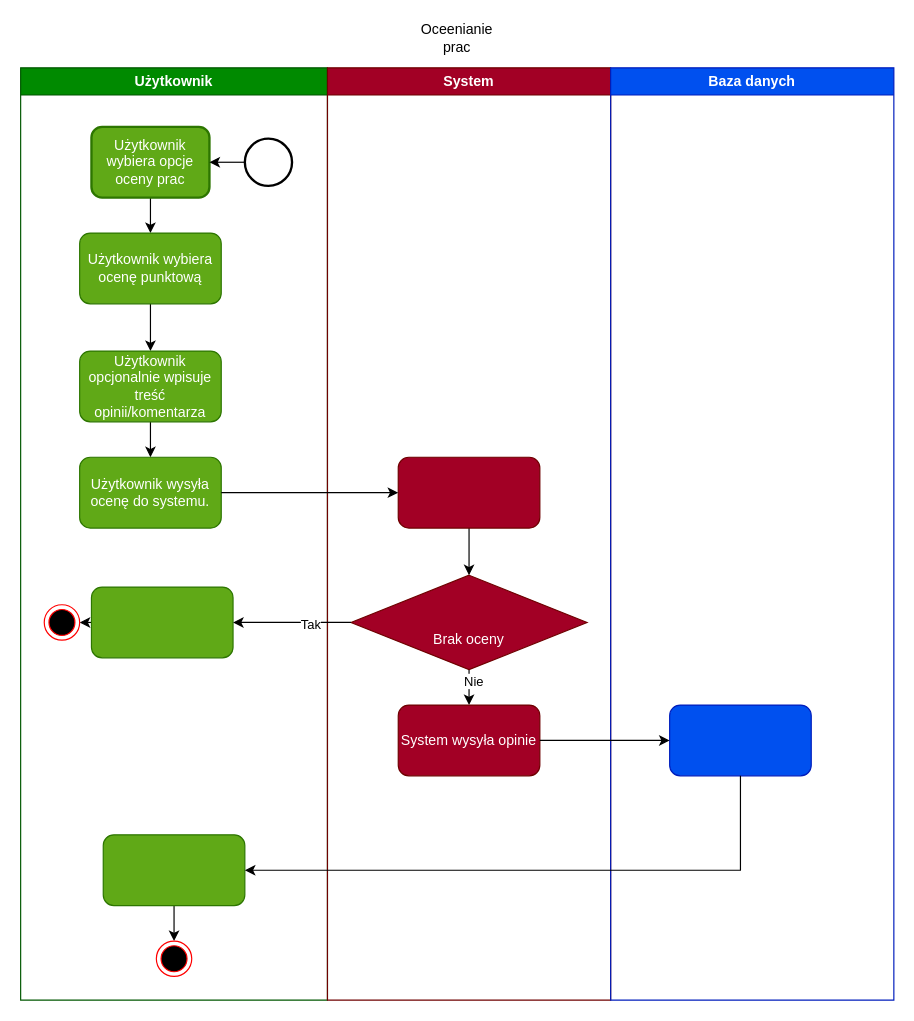
Some shapes in this 914 by 1021 pixel diagram are drawn without their labels. The shapes that lost their labels are listed below. From the top down, each one's centre as x and y in pixels, then its label:
At (x=468, y=492): "System waliduje dane".
At (x=161, y=622): "Wyświetla błąd prosocy o wybranie oceny".
At (x=739, y=740): "Baza danych zapisuje dane".
At (x=173, y=870): "Wyświetla potwierdzenie".
